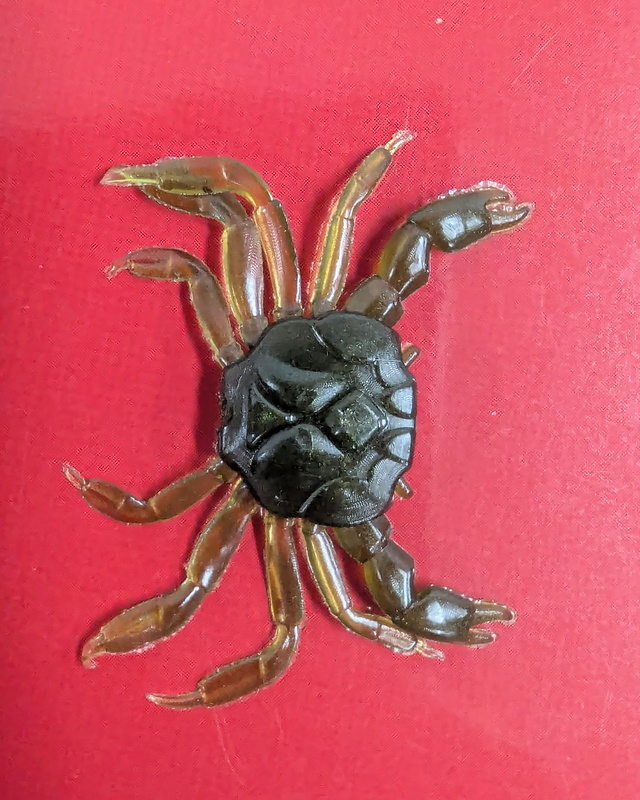crab2: (64, 123, 538, 717)
